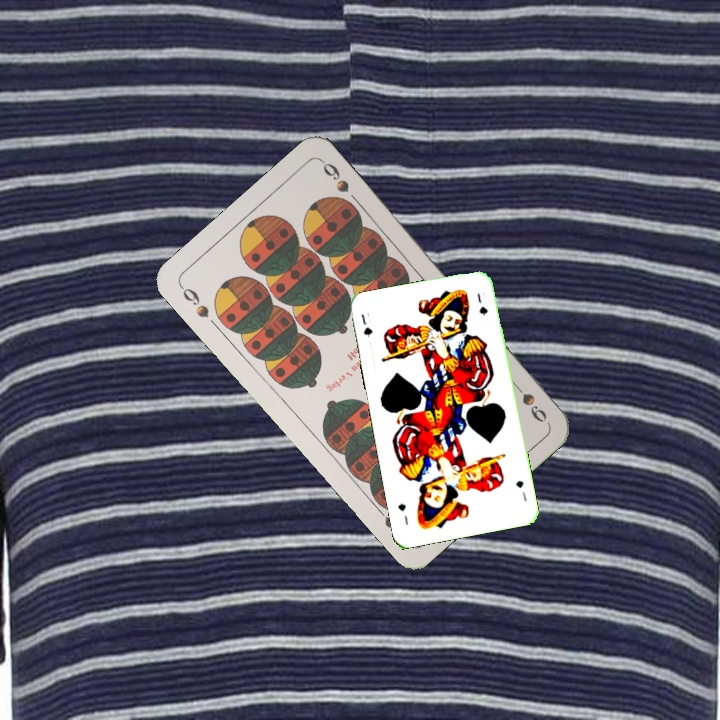GU: (357, 308, 375, 339), (512, 477, 529, 504)
S9: (507, 376, 550, 425), (176, 281, 212, 321)
